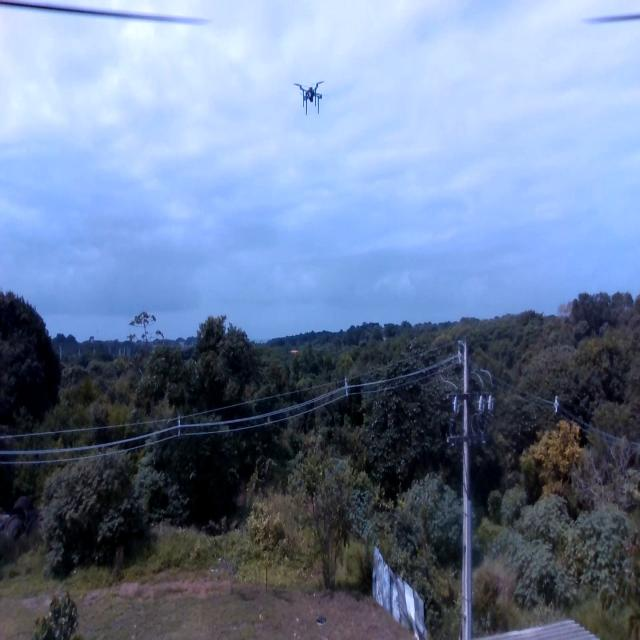-uav-: (287, 70, 333, 117)
